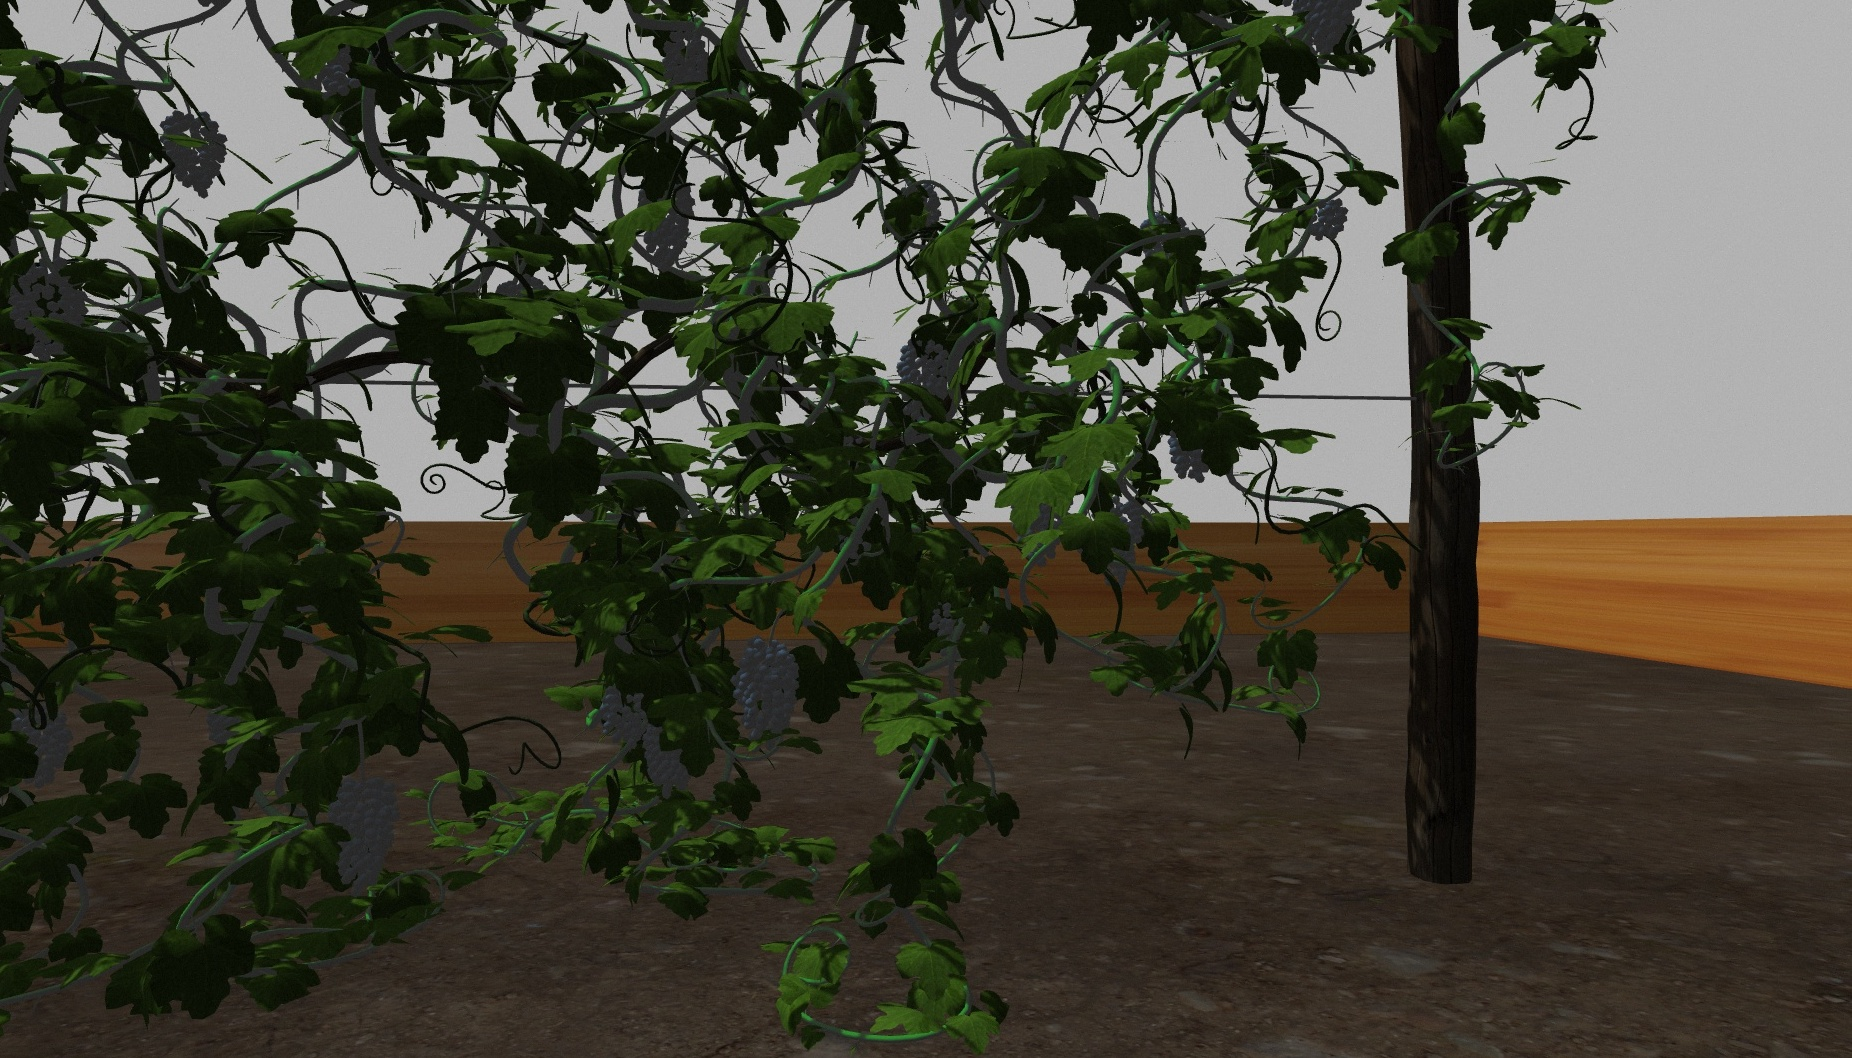grape: (326, 777, 403, 895), (733, 637, 803, 752), (156, 114, 231, 201), (894, 324, 958, 420), (8, 702, 76, 788), (13, 273, 84, 355), (639, 707, 697, 800), (639, 175, 694, 272), (598, 670, 651, 746), (1297, 1, 1364, 53), (661, 36, 714, 86), (1311, 197, 1348, 242)
